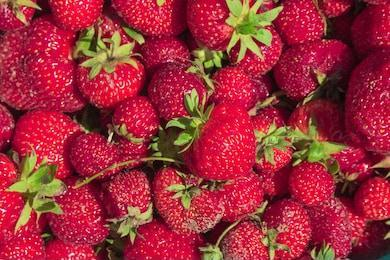Fresa: (186, 96, 257, 186), (72, 45, 151, 116), (99, 161, 165, 232), (144, 59, 210, 128), (107, 89, 163, 146)
